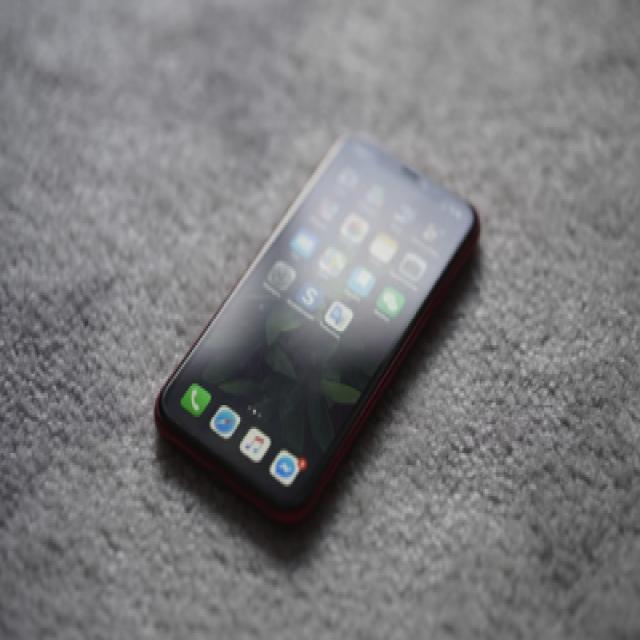cellphone: (152, 127, 480, 527)
